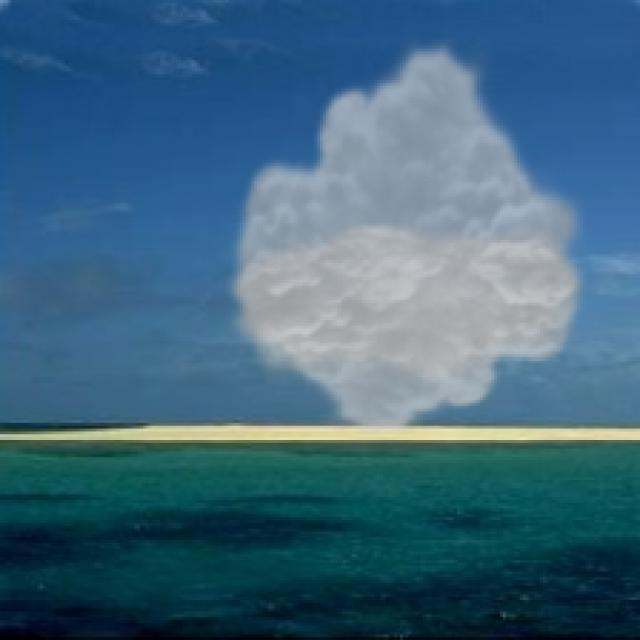Smoke: (220, 37, 594, 440)
